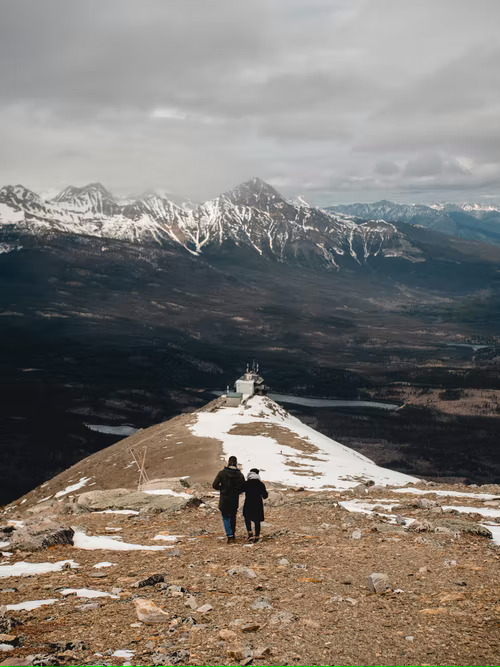person: (213, 456, 245, 542), (241, 467, 267, 542)
